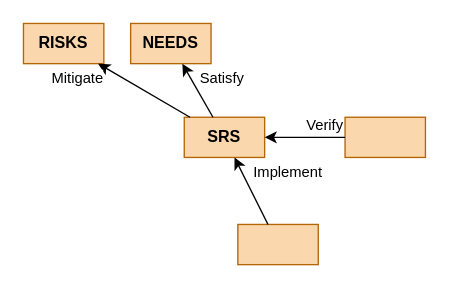
Some shapes in this 449 by 288 pixel diagram are drawn without their labels. The shapes that lost their labels are listed below. From the top down, each one's box as (x1, y1, x2, y2) in pixels, then its label:
(344, 116, 425, 157): TESTS
(237, 223, 318, 265): ARCH
